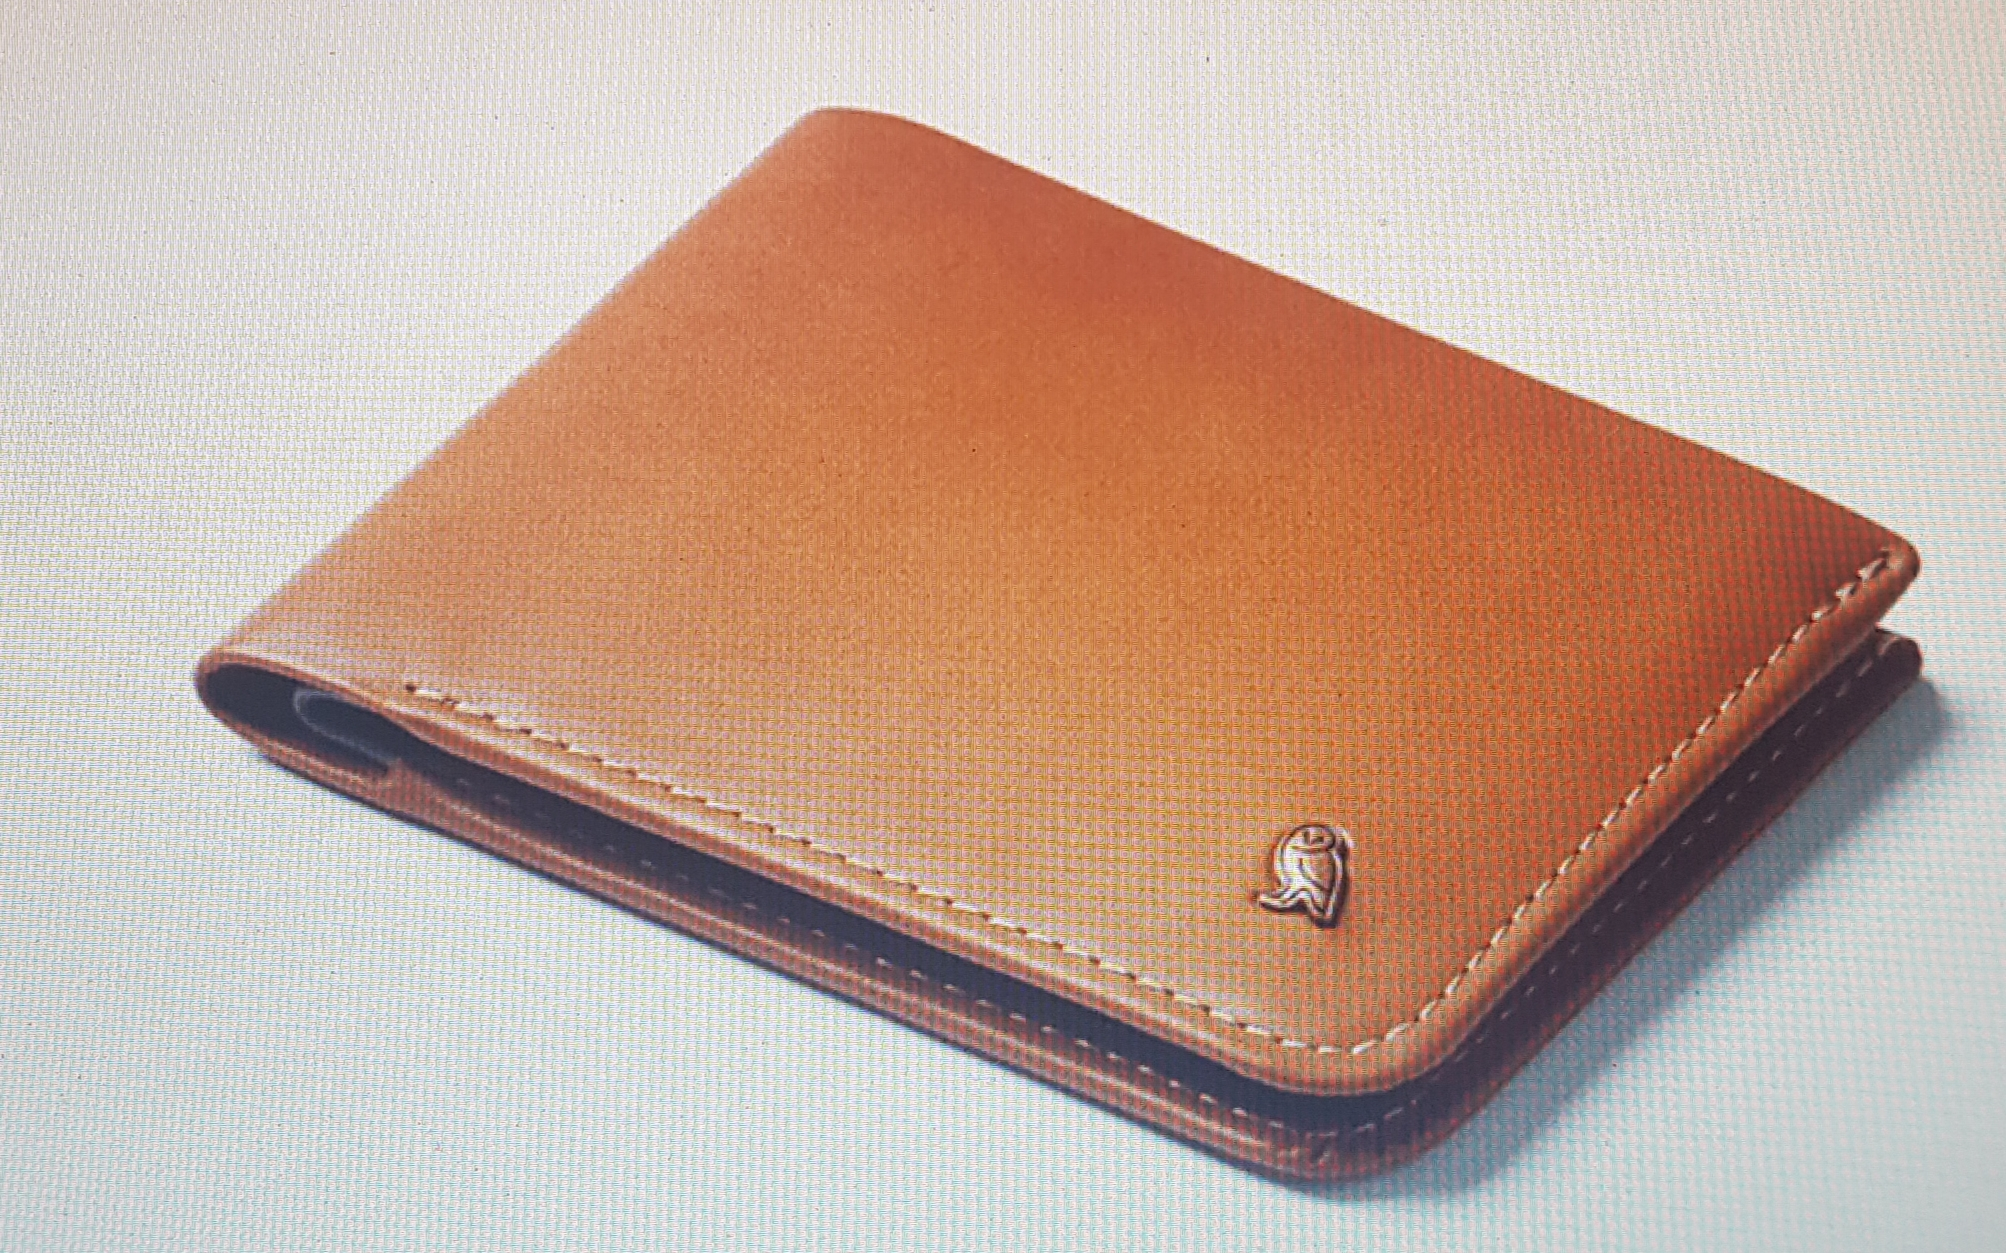Brown: (188, 102, 1930, 1192)
